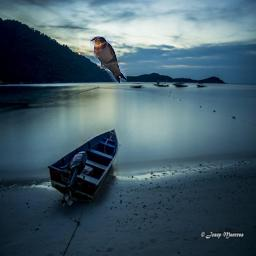Swallow: (90, 36, 127, 83)
